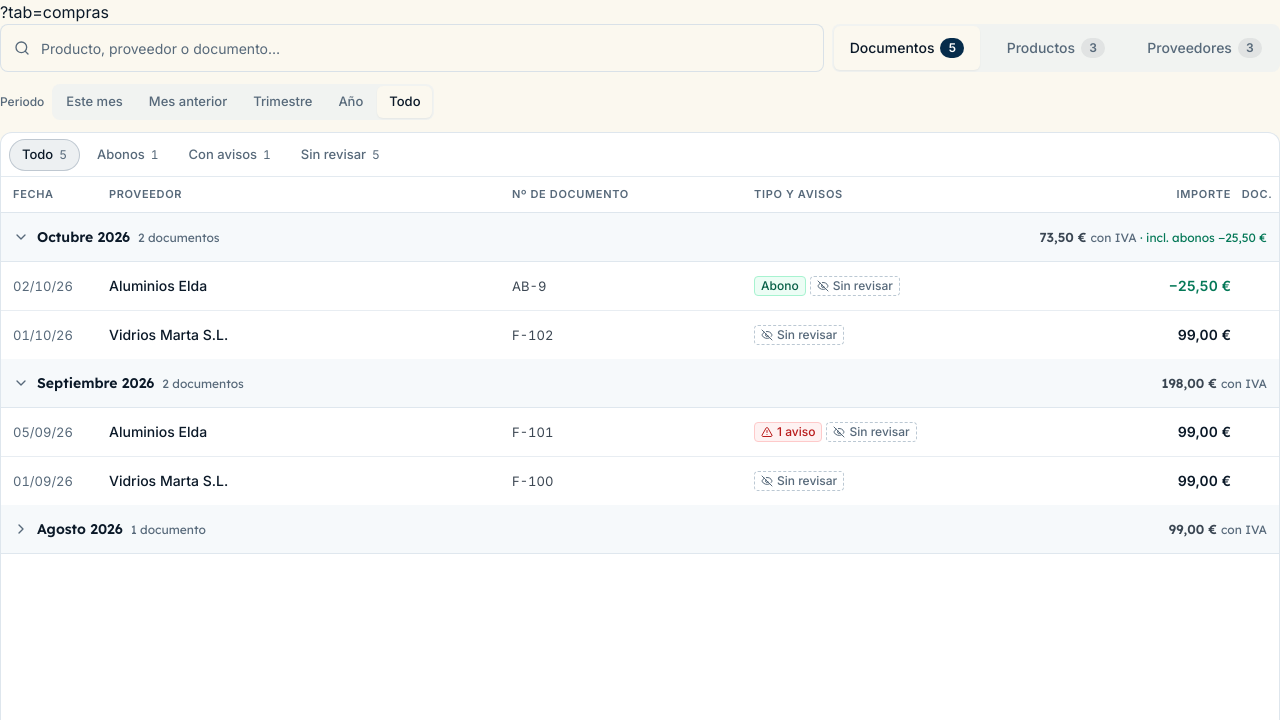
Test: Compras · periodo, abonos y errores › abonos: chip «Abonos», signo menos y título «Abono» en la ficha
The image size is (1280, 720).
Expected: the text "AB-9" is shown, [512, 278, 546, 294]
Click the button "Abonos 1": (128, 154) [84, 138, 172, 170]
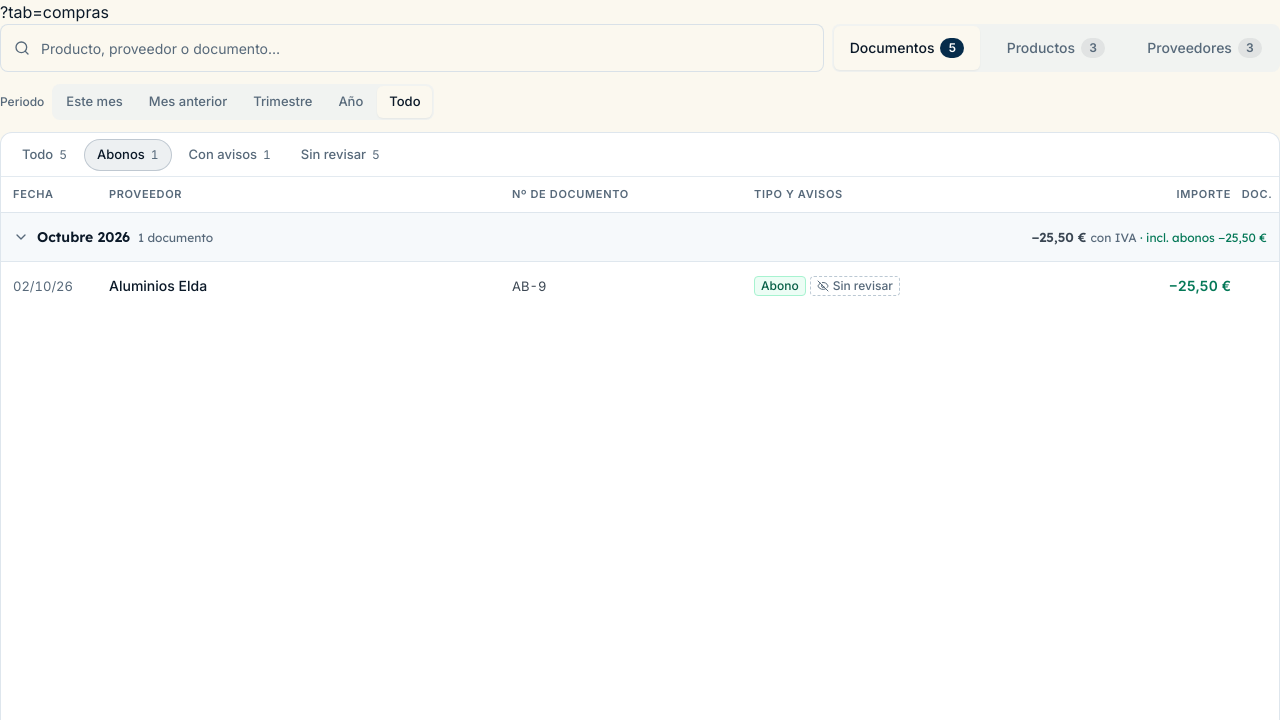
Click the button "Aluminios Elda −25,50 €": (158, 286) [1, 262, 1235, 310]
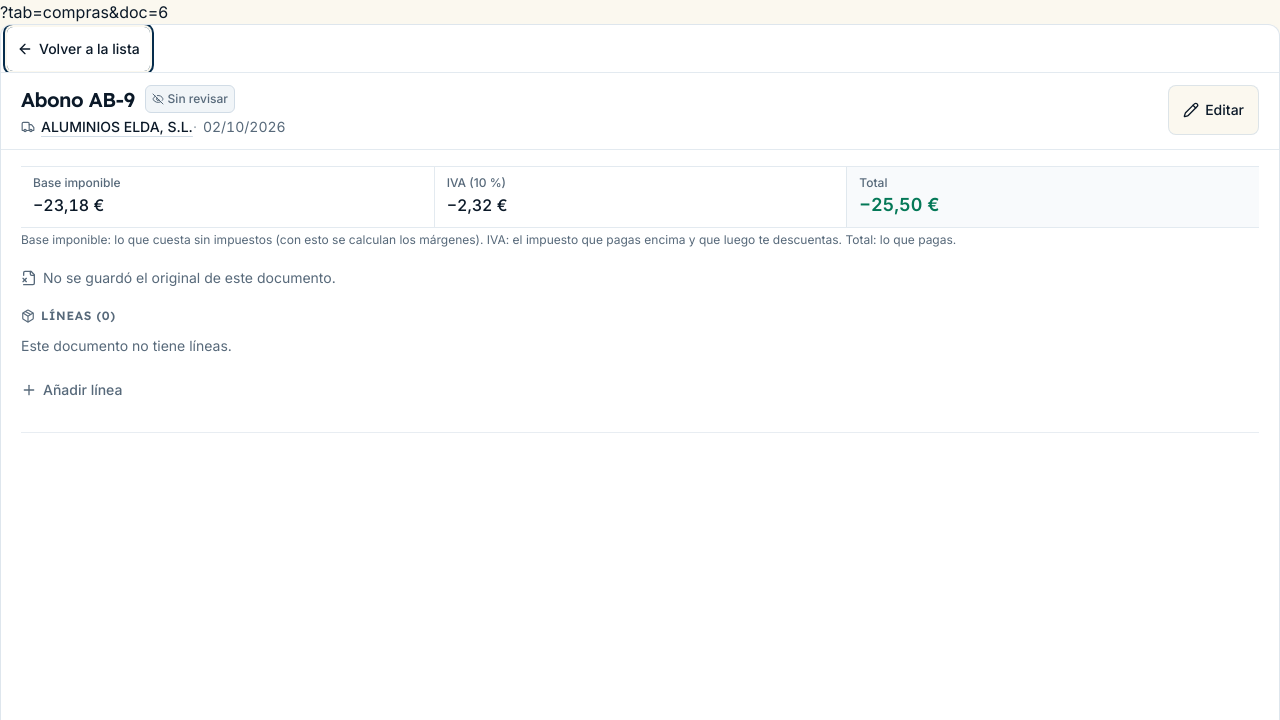
Expected: the heading "Abono AB-9" is shown, [21, 86, 135, 112]
